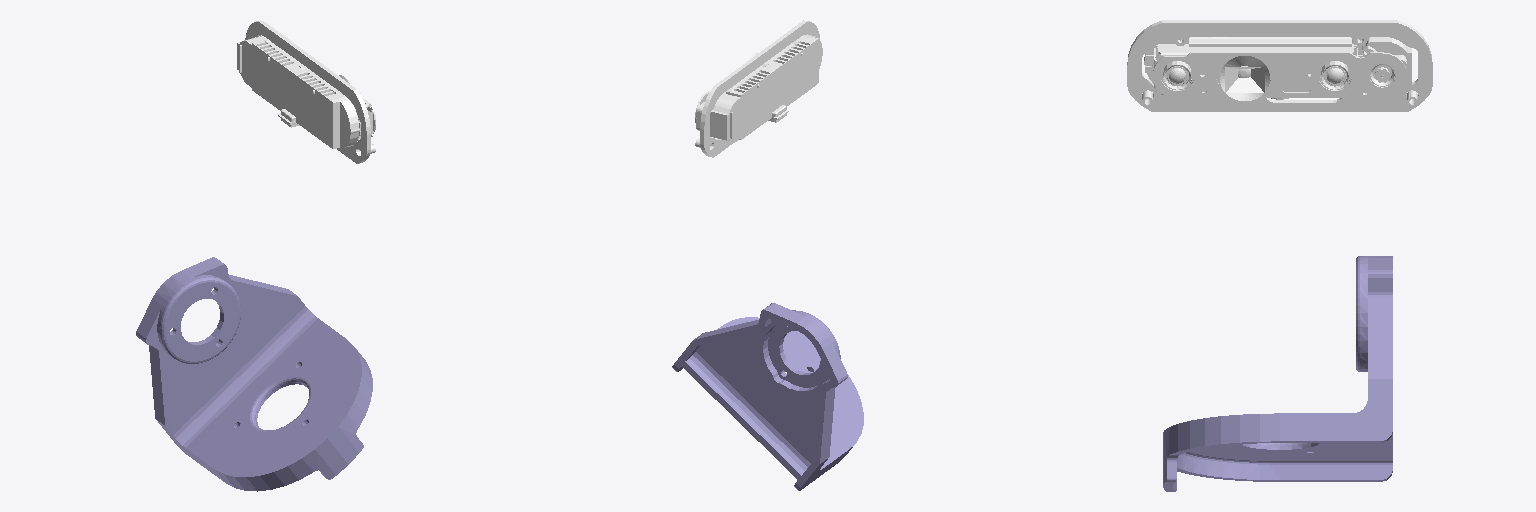
The robot description file, URDF, robot "biped_s40":
<?xml version="1.0" encoding="utf-8"?>
<!-- This URDF was automatically created by SolidWorks to URDF Exporter! Originally created by [author] ([email redacted]) 
     Commit Version: 1.6.0-1-g15f4949  Build Version: 1.6.7594.29634
     For more information, please see http://wiki.ros.org/sw_urdf_exporter -->
<robot
  name="biped_s40">
  <link
    name="head_camera">
    <inertial>
      <origin
        xyz="-0.00630026108299819 -0.0160960633638386 -4.88215001728243E-05"
        rpy="0 0 0" />
      <mass
        value="0.0170255961584928" />
      <inertia
        ixx="1.09182620877589E-05"
        ixy="-1.05354237503678E-07"
        ixz="-1.05871360812812E-08"
        iyy="8.57178923448405E-07"
        iyz="-1.6401848102306E-08"
        izz="1.02869873531782E-05" />
    </inertial>
    <visual>
      <origin
        xyz="0 0 0"
        rpy="0 0 0" />
      <geometry>
        <mesh
          filename="package://biped_s40/meshes/new_head_camera.obj" />
      </geometry>
      <material
        name="">
        <color
          rgba="1 1 1 1" />
      </material>
    </visual>
    <collision>
      <origin
        xyz="0 0 0"
        rpy="0 0 0" />
      <geometry>
        <mesh
          filename="package://biped_s40/meshes/new_head_camera.obj" />
      </geometry>
    </collision>
  </link>
  <link
    name="head_pitch">
    <inertial>
      <origin
        xyz="-0.0643985760689995 -0.0168076944928305 -0.0489794675151212"
        rpy="0 0 0" />
      <mass
        value="0.658604769949703" />
      <inertia
        ixx="0.00140238801888669"
        ixy="-3.06424852242863E-06"
        ixz="-7.0608171011253E-05"
        iyy="0.00174953220790318"
        iyz="4.48811713621507E-06"
        izz="0.00253034886312742" />
    </inertial>
    <visual>
      <origin
        xyz="0 0 0"
        rpy="0 0 0" />
      <geometry>
        <mesh
          filename="package://biped_s40/meshes/new_head.obj" />
      </geometry>
      <material
        name="">
        <color
          rgba="1 1 1 1" />
      </material>
    </visual>
    <collision>
      <origin
        xyz="0 0 0"
        rpy="0 0 0" />
      <geometry>
        <mesh
          filename="package://biped_s40/meshes/new_head.obj" />
      </geometry>
    </collision>
  </link>
  <joint
    name="head_pitch"
    type="fixed">
    <origin
      xyz="0 0 0"
      rpy="0 0 0" />
    <parent
      link="head_camera" />
    <child
      link="head_pitch" />
    <axis
      xyz="-0.200353538045077 0.469846310392953 0.859710942353852" />
    <limit
      lower="-1.57"
      upper="1.57"
      effort="0"
      velocity="0" />
  </joint>
  <link
    name="head_yaw">
    <inertial>
      <origin
        xyz="-3.77475828372553E-15 0.0124496461817263 -0.0298176941106402"
        rpy="0 0 0" />
      <mass
        value="0.0290833361791932" />
      <inertia
        ixx="2.31088609398575E-05"
        ixy="-8.23073984016117E-20"
        ixz="9.70116092351009E-21"
        iyy="2.23207774381225E-05"
        iyz="-5.88352640523343E-06"
        izz="2.78125851778324E-05" />
    </inertial>
    <visual>
      <origin
        xyz="0 0 0"
        rpy="0 0 0" />
      <geometry>
        <mesh
          filename="package://biped_s40/meshes/new_pitch_yaw.obj" />
      </geometry>
      <material
        name="">
        <color
          rgba="0.67843137254902 0.654901960784314 0.827450980392157 1" />
      </material>
    </visual>
    <collision>
      <origin
        xyz="0 0 0"
        rpy="0 0 0" />
      <geometry>
        <mesh
          filename="package://biped_s40/meshes/new_pitch_yaw.obj" />
      </geometry>
    </collision>
  </link>
  <joint
    name="head_yaw"
    type="continuous">
    <origin
      xyz="-0.0398505839612022 -0.0175000000022731 -0.103327864468996"
      rpy="0 -0.610865238198013 0" />
    <parent
      link="head_pitch" />
    <child
      link="head_yaw" />
    <axis
      xyz="0 1 0" />
    <limit
      lower="-0.52"
      upper="0.52"
      effort="0"
      velocity="0" />
  </joint>
  <link
    name="torso">
    <inertial>
      <origin
        xyz="-0.00906254371698312 0.000433364006719505 0.152167554080273"
        rpy="0 0 0" />
      <mass
        value="7.84760960877791" />
      <inertia
        ixx="0.0486626734126343"
        ixy="-1.58494993744109E-05"
        ixz="0.0032064213234161"
        iyy="0.0394550026833284"
        iyz="2.62625040018755E-05"
        izz="0.0430574143666627" />
    </inertial>
    <visual>
      <origin
        xyz="0 0 0"
        rpy="0 0 0" />
      <geometry>
        <mesh
          filename="package://biped_s40/meshes/new_torso.obj" />
      </geometry>
      <material
        name="">
        <color
          rgba="1 1 1 1" />
      </material>
    </visual>
    <collision>
      <origin
        xyz="0 0 0"
        rpy="0 0 0" />
      <geometry>
        <mesh
          filename="package://biped_s40/meshes/new_torso.obj" />
      </geometry>
    </collision>
  </link>
  <joint
    name="torso"
    type="continuous">
    <origin
      xyz="0.0174998525199999 0 -0.501400000114722"
      rpy="0 0 0" />
    <parent
      link="head_yaw" />
    <child
      link="torso" />
    <axis
      xyz="-0.038023912033266 0 0.999276829569107" />
  </joint>
</robot>

--- Facts derived from the render (not from the file) ---
Views: 3 orthographic renders of the robot side by side, from view 1: azimuth 30°, elevation 25°; view 2: azimuth 150°, elevation 25°; view 3: azimuth 270°, elevation 25°.
Robot: biped_s40 — 4 links, 3 joints (2 continuous, 1 fixed); root link head_camera; default pose: all joints at 0.
Links seen in each view (by area): view 1: head_yaw, head_camera; view 2: head_yaw, head_camera; view 3: head_camera, head_yaw.
Link boxes in pixels (left/top/right/bottom): head_yaw: left=136, top=257, right=372, bottom=491; head_camera: left=237, top=21, right=375, bottom=163; head_yaw: left=672, top=303, right=863, bottom=490; head_camera: left=695, top=20, right=822, bottom=157; head_camera: left=1127, top=20, right=1432, bottom=111; head_yaw: left=1163, top=256, right=1392, bottom=491.
Bounding box of the posed robot: 0.0814 × 0.0968 × 0.1787 m (x, y, z).
2 mesh visuals loaded from 4 distinct referenced files (2 OBJ); not drawn: 2 (reference not matched to a file when rendering).